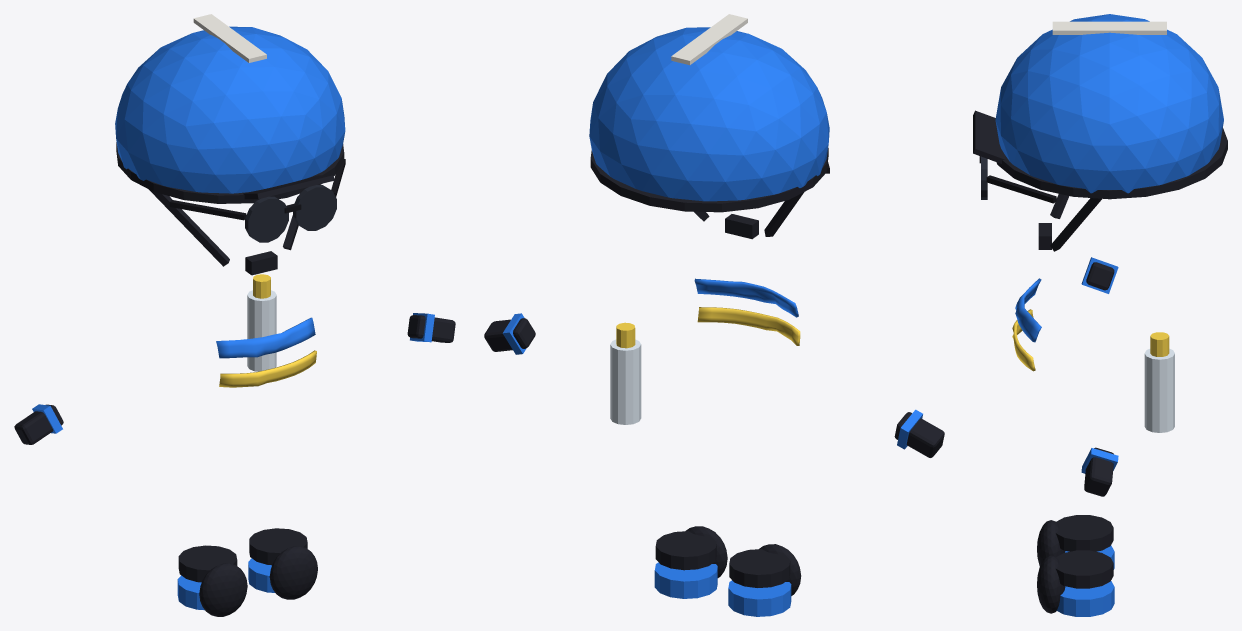
The model's file is Outfit_Bike.fbx.
3 renders of one model, left to right at view 1: azimuth 30°, elevation 25°; view 2: azimuth 150°, elevation 25°; view 3: azimuth 270°, elevation 25°, orthographic. The views are drawn at different scales.
Parts seen in each view (by area): view 1: Helmet__Head.001, KneePadR__shin.R.001, KneePadL__shin.L.001, Sunglasses__Head, Bottle__spine.002, JerseyStripeA__spine.002, JerseyStripeB__spine.002, GloveR__hand.R.001, GloveL__hand.L.001; view 2: Helmet__Head.001, KneePadL__shin.L.001, KneePadR__shin.R.001, Bottle__spine.002, JerseyStripeB__spine.002, JerseyStripeA__spine.002, GloveR__hand.R.001, GloveL__hand.L.001; view 3: Helmet__Head.001, KneePadL__shin.L.001, Bottle__spine.002, KneePadR__shin.R.001, GloveL__hand.L.001, Sunglasses__Head, GloveR__hand.R.001, JerseyStripeA__spine.002, JerseyStripeB__spine.002.
Part boxes in pixels (x1,y1,x2,y2): Helmet__Head.001: (115,14,345,275); KneePadR__shin.R.001: (177,545,247,616); KneePadL__shin.L.001: (248,528,317,599); Sunglasses__Head: (169,159,345,242); Bottle__spine.002: (247,274,276,371); JerseyStripeA__spine.002: (216,317,315,358); JerseyStripeB__spine.002: (219,350,316,387); GloveR__hand.R.001: (14,404,63,444); GloveL__hand.L.001: (407,313,455,342); Helmet__Head.001: (589,14,829,239); KneePadL__shin.L.001: (654,526,727,598); KneePadR__shin.R.001: (728,544,801,616); Bottle__spine.002: (610,322,641,424); JerseyStripeB__spine.002: (697,307,800,345); JerseyStripeA__spine.002: (694,278,798,317); GloveR__hand.R.001: (894,409,944,457); GloveL__hand.L.001: (484,313,535,354); Helmet__Head.001: (973,14,1227,251); KneePadL__shin.L.001: (1037,550,1114,616); Bottle__spine.002: (1144,332,1174,432); KneePadR__shin.R.001: (1037,515,1114,569); GloveL__hand.L.001: (1081,447,1118,496); Sunglasses__Head: (979,156,1056,203); GloveR__hand.R.001: (1081,257,1118,293); JerseyStripeA__spine.002: (1015,278,1041,342); JerseyStripeB__spine.002: (1012,309,1035,371).
Bounding box in the file's own units: 1.08 × 1.31 × 0.535.
